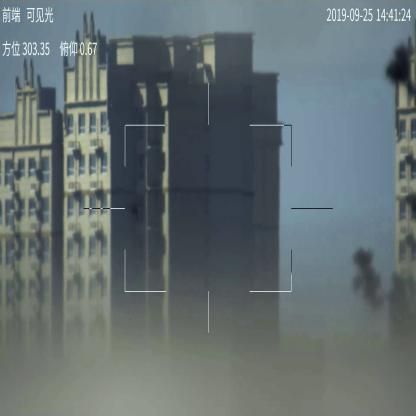uav: (126, 201, 145, 221)
